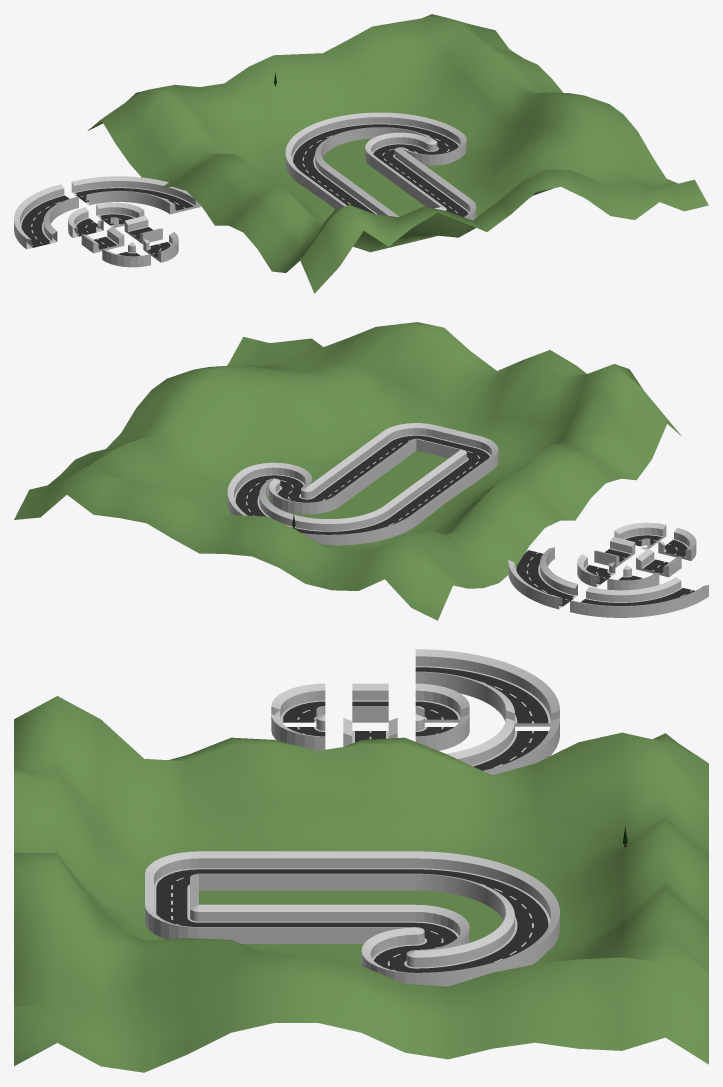
Rendered from GoKart Background.fbx.
3 views of the same model, one above another, from view 1: azimuth 30°, elevation 25°; view 2: azimuth 150°, elevation 25°; view 3: azimuth 270°, elevation 25° (orthographic). The views are drawn at different scales.
Parts seen in each view (by area): view 1: Plane, Cube.011, Cube.004, Cube.002, Cube.003, Cube.010, Cube.014, Cube.001, Cube.008, Cube.029, Cube, Cube.015 (+12 smaller); view 2: Plane, Cube.002, Cube.003, Cube.011, Cube.004, Cube.015, Cube.014, Cube.005, Cube.016, Cube.012, Cube.029, Cube (+19 smaller); view 3: Plane, Cube.002, Cube.003, Cube.004, Cube.011, Cube.014, Cube.001, Cube.013, Cube.005, Cube.017, Cube.026, Cube.025 (+19 smaller).
Part boxes in pixels (x1,y1,x2,y2): Plane: (88,14,708,293); Cube.011: (71,176,200,214); Cube.004: (333,112,461,146); Cube.002: (14,184,78,249); Cube.003: (285,118,350,182); Cube.010: (96,202,144,227); Cube.014: (102,242,150,267); Cube.001: (68,207,103,237); Cube.008: (383,132,430,152); Cube.029: (124,215,162,244); Cube: (81,226,124,253); Cube.015: (143,232,178,262); Plane: (14,322,681,620); Cube.002: (570,577,708,617); Cube.003: (294,506,417,545); Cube.011: (508,547,577,609); Cube.004: (227,471,297,527); Cube.015: (614,522,666,549); Cube.014: (658,527,696,560); Cube.005: (288,487,340,514); Cube.016: (241,462,292,485); Cube.012: (384,423,435,445); Cube.029: (594,537,635,567); Cube: (636,548,681,577); Plane: (14,696,708,1072); Cube.002: (415,649,559,726); Cube.003: (415,851,559,925); Cube.004: (415,912,559,986); Cube.011: (446,718,559,774); Cube.014: (271,683,325,722); Cube.001: (415,683,469,722); Cube.013: (145,851,198,887); Cube.005: (415,904,469,940); Cube.017: (361,927,415,963); Cube.026: (343,851,379,890); Cube.025: (379,851,415,890).
Bounding box in the file's own units: 10750 × 1500 × 7700.
